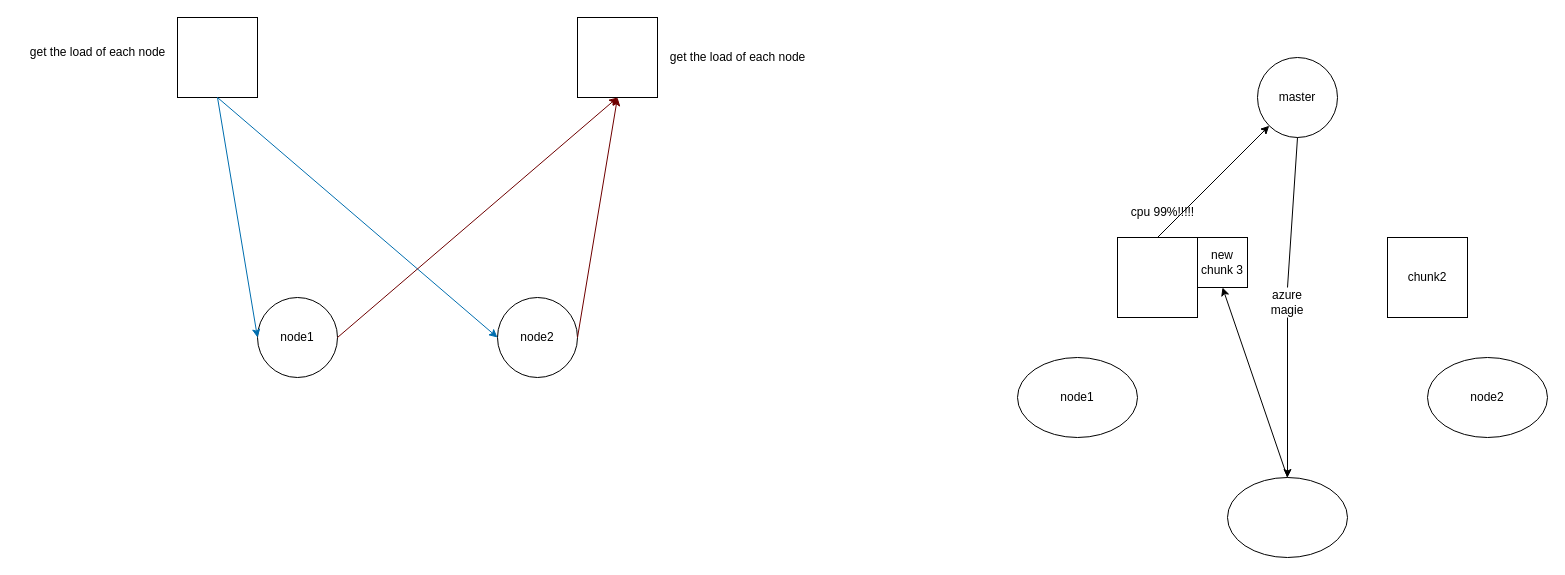
This 1565x575 diagram has some shape labels left out. Each missing label, with the box of its shape:
chunk1: (1116, 236, 1198, 318)
consumer: (576, 16, 658, 98)
node3: (1226, 476, 1348, 558)
producer: (176, 16, 258, 98)
